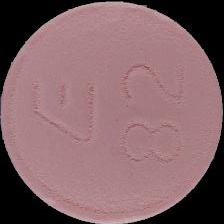68788-9946: (0, 0, 224, 224)
